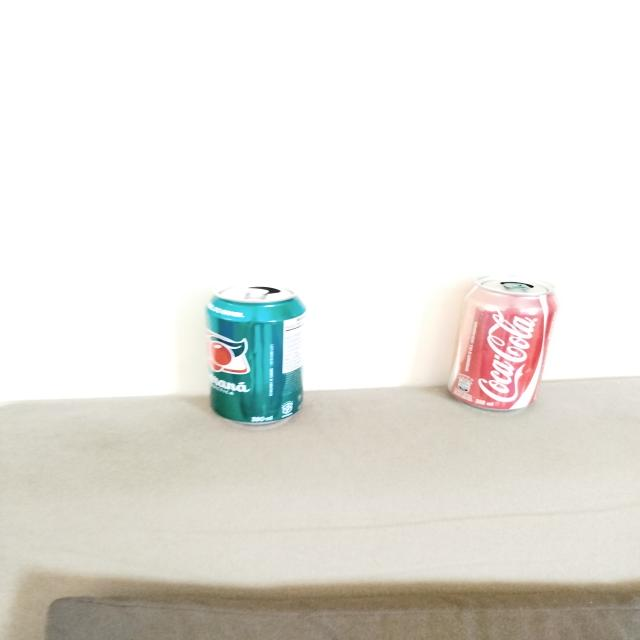Coca Cola: (447, 276, 557, 413)
Guarana: (206, 284, 307, 425)
